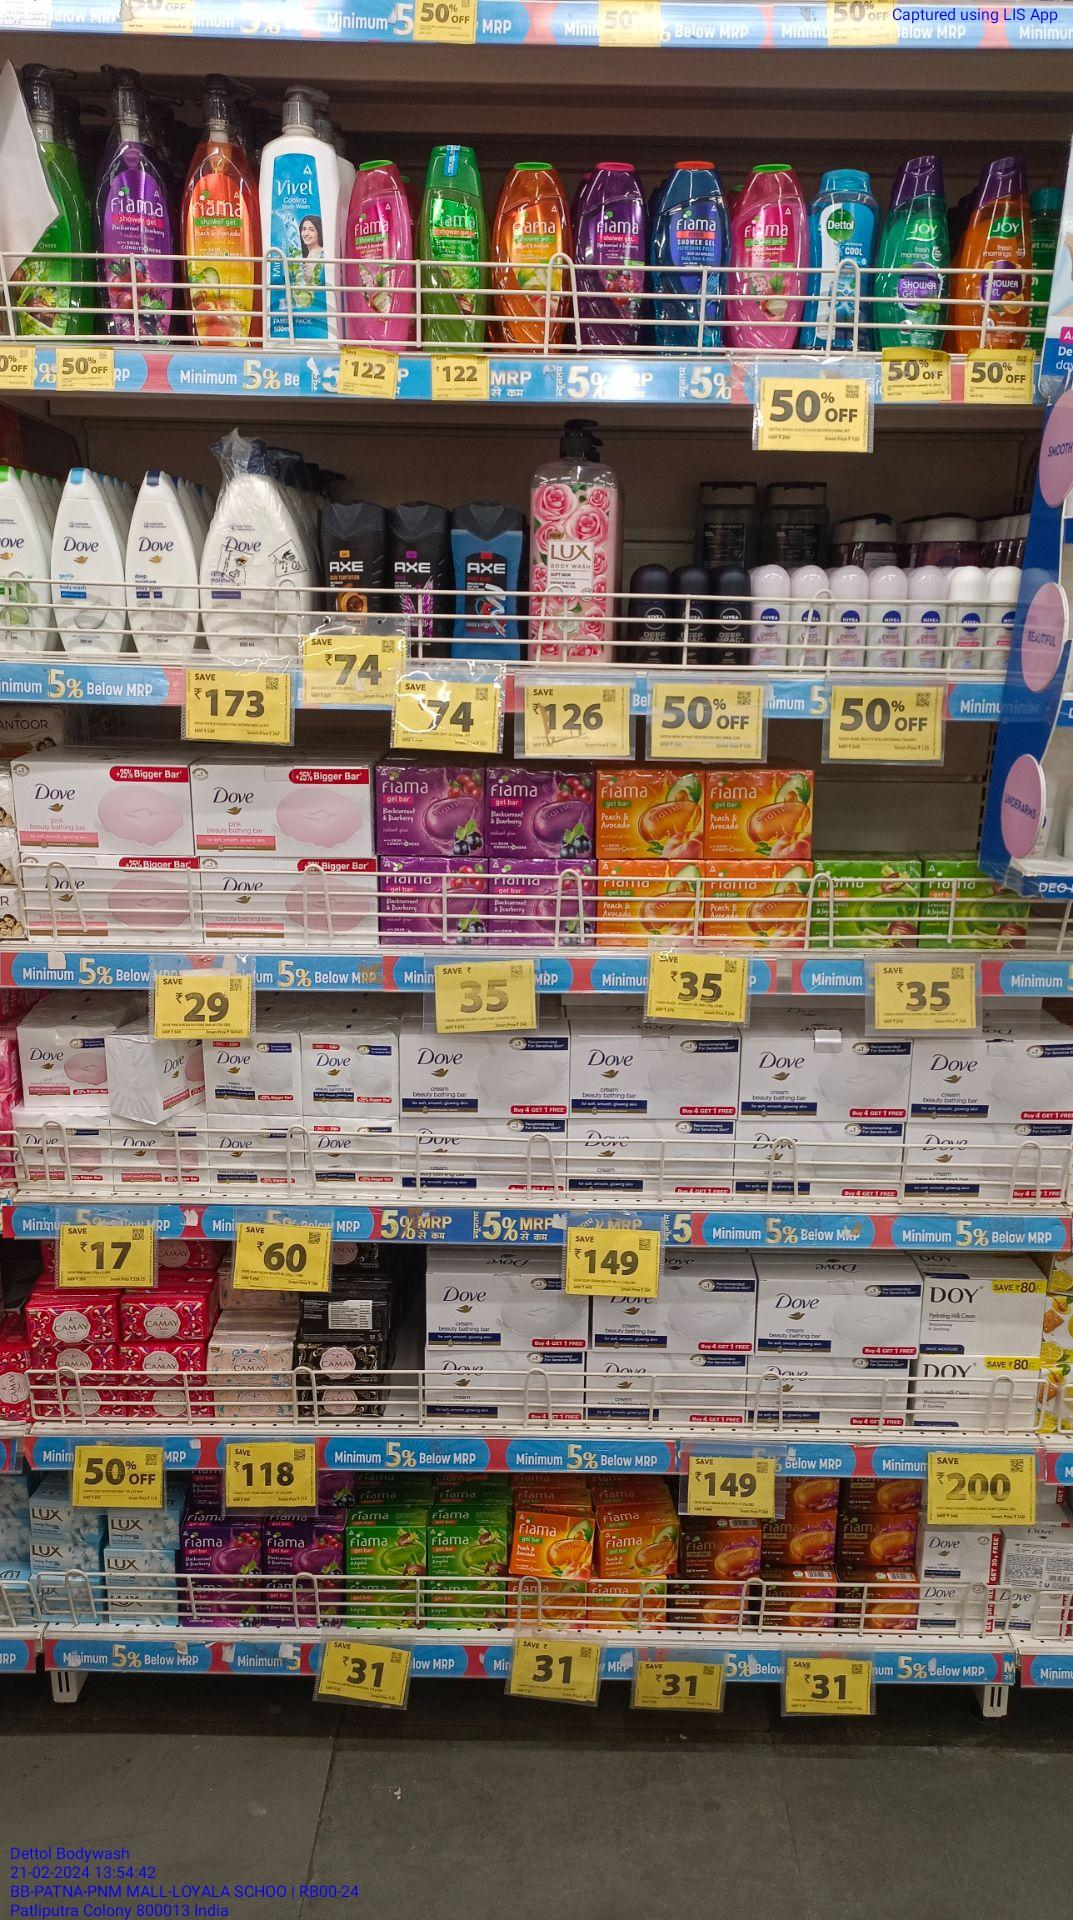Dettol_Bodywash_Cool: (804, 161, 877, 352)
Dove_Deep_Moisture_Body_Wash_250ML: (125, 465, 198, 665)
Dove_Gentle_Exfoliating_Body_Wash_250ML: (49, 463, 125, 663)
Fiama_Shower_Gel_Patchouli_and_Macadamia_250ML: (729, 161, 805, 353), (343, 158, 413, 348)
Fiama_Shower_Gel_Peach_and_Avocado_250ML: (490, 158, 573, 356)
Joy_Shower_Gel_Mandarin_and_Lemongrass_250ML: (956, 152, 1033, 352)
Joy_Shower_Gel_Mint_and_Eucalyptus_250ML: (877, 152, 953, 348)
